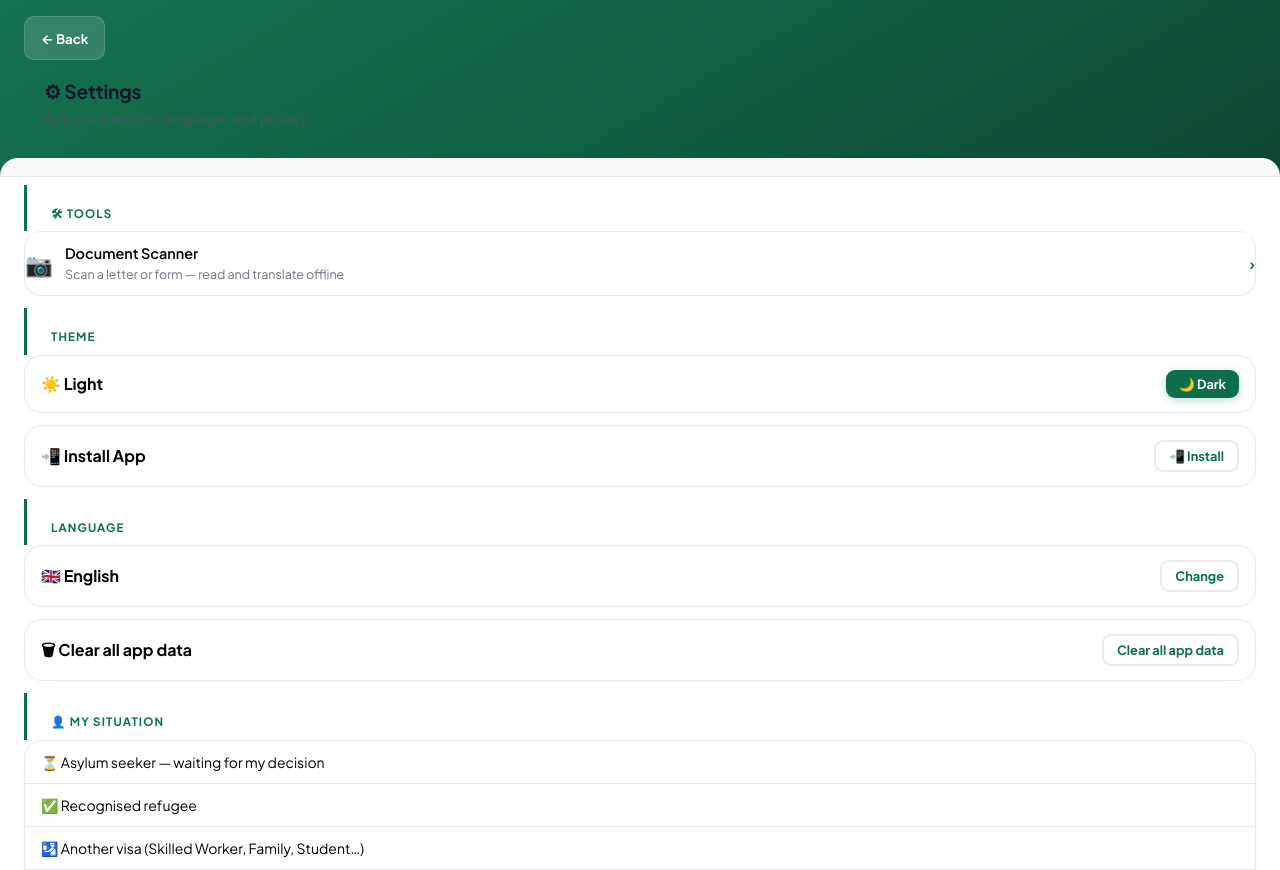
Test: MorePage — install prompt › disables the install button and shows "Installed!" after accepted install
This screenshot has width=1280, height=870.
Click the button "📲 Install": (1196, 456) [1154,440,1239,472]
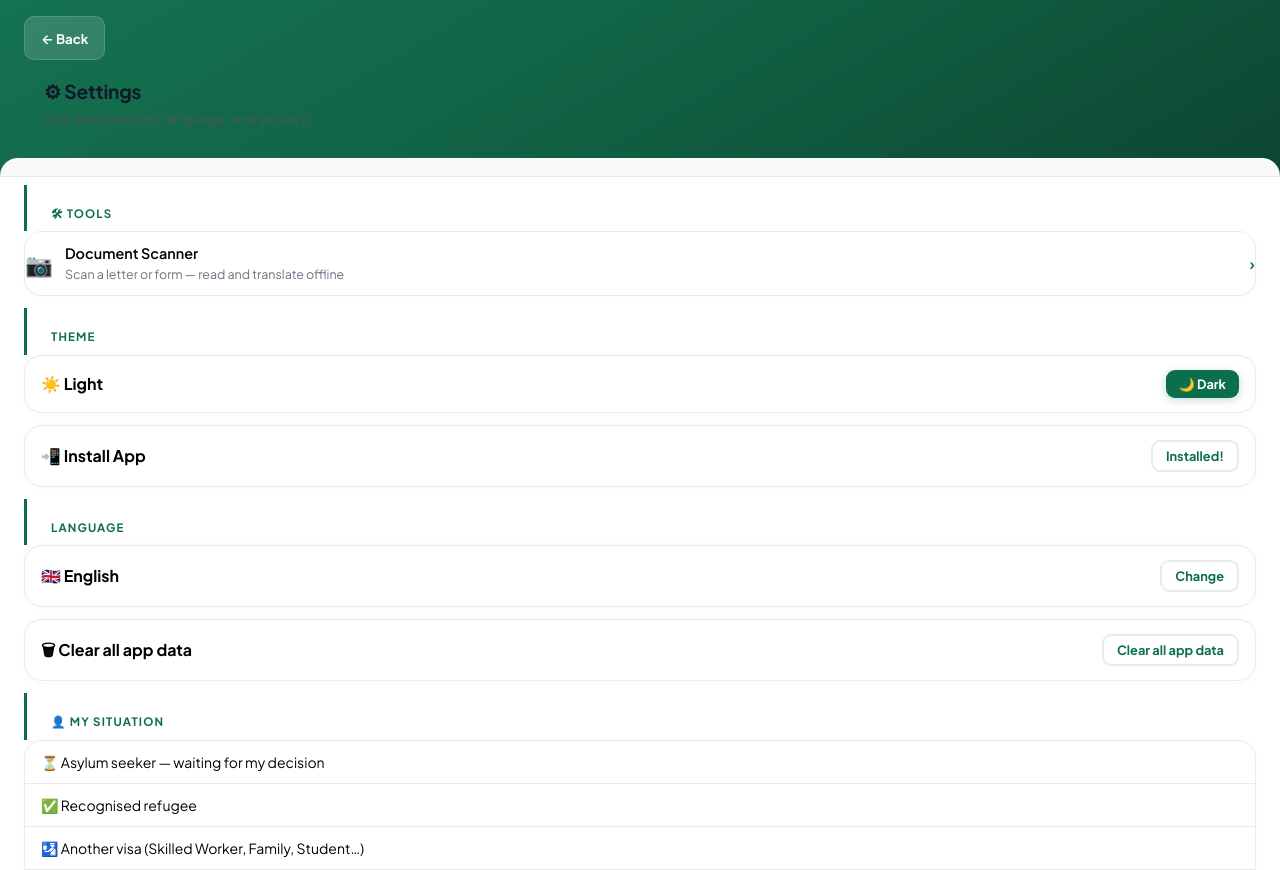
Now the button "Installed!" is disabled, box [1151,440,1239,472]
